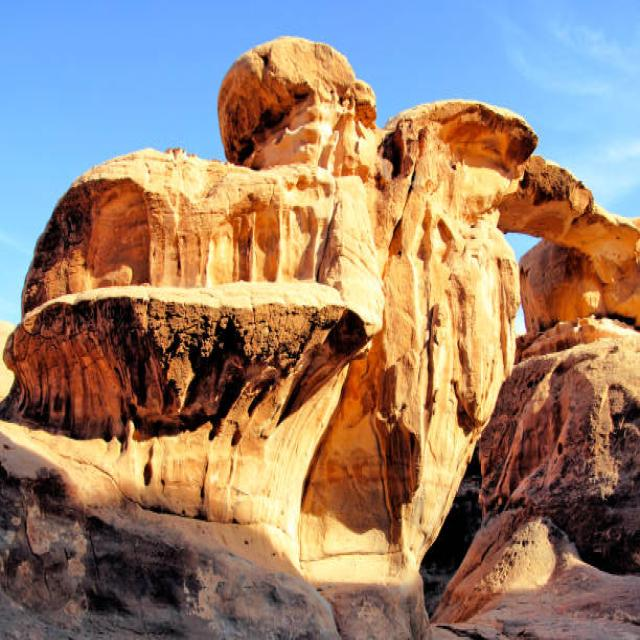Sedimentary: (22, 39, 640, 636)
